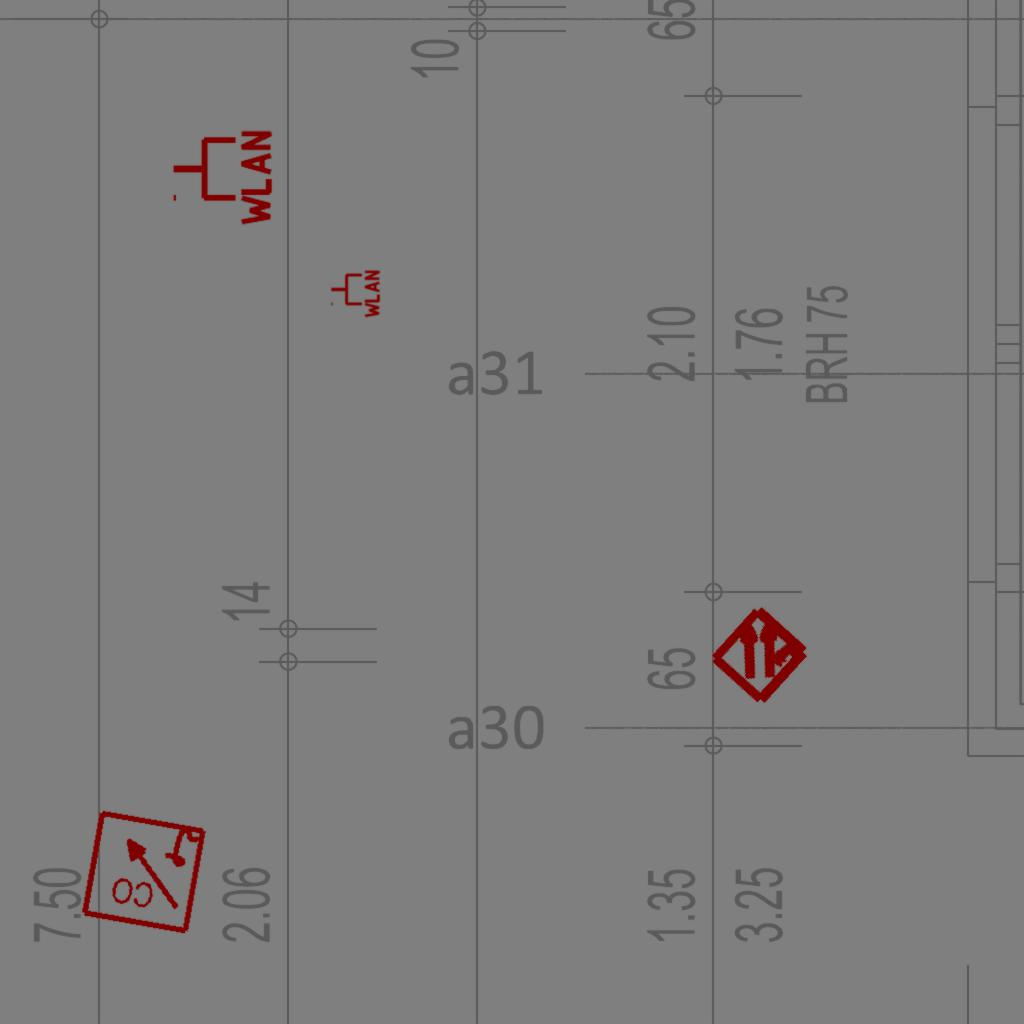OT_Multisensormelder_(Kombination_RMO_WMD): (681, 573, 842, 734)
ROA_Rauchmelder_optisch_mit_Signalgeber_(Sockelsirene): (78, 805, 209, 936)
WLAN: (169, 126, 274, 230), (329, 268, 381, 320)
